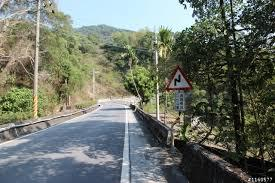double_bend_right: (164, 65, 193, 89)
